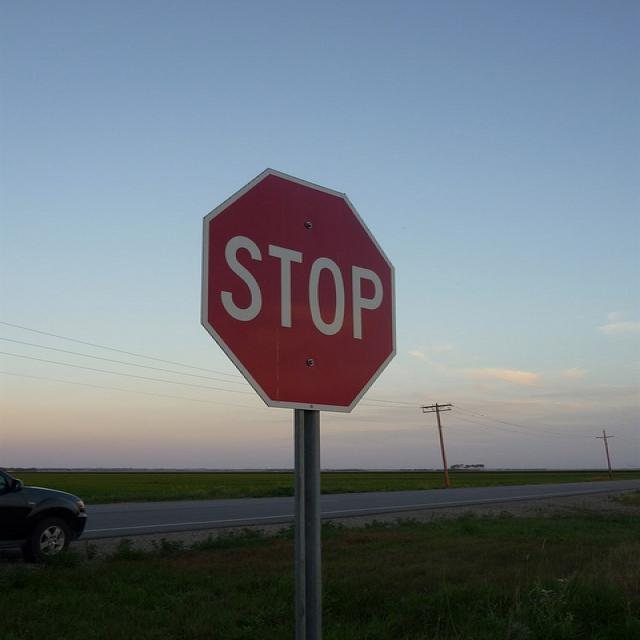Vehicle: (0, 469, 86, 566)
